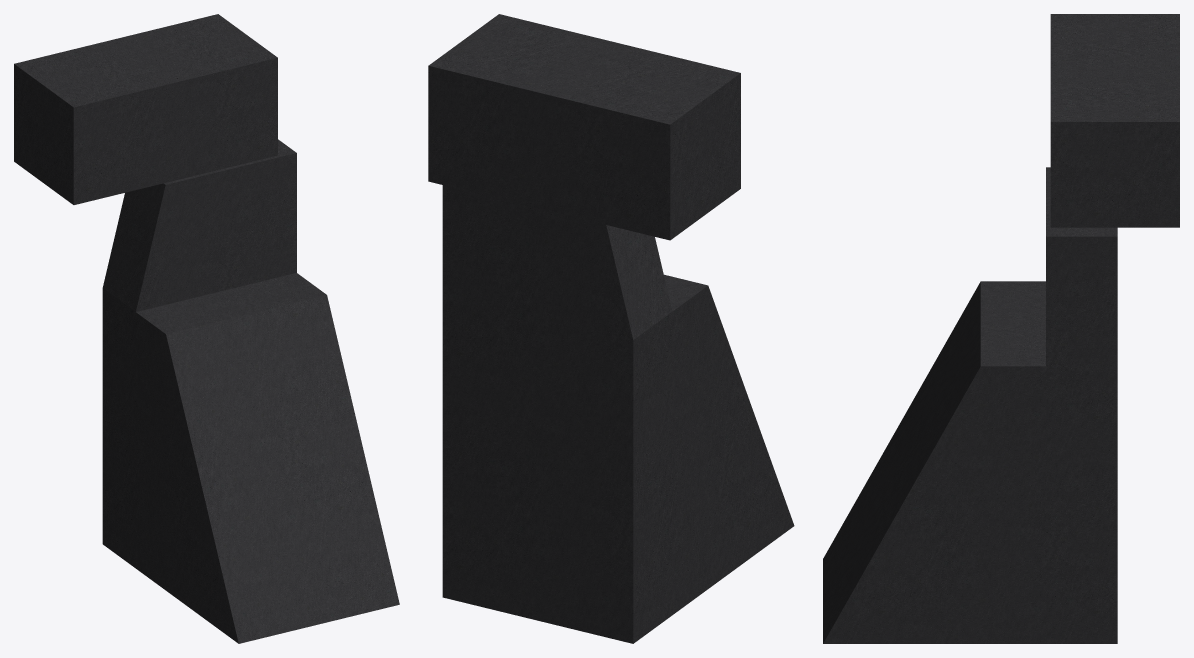
The model's file is rook-black.glb.
3 views of the same model, side by side, from view 1: azimuth 30°, elevation 25°; view 2: azimuth 150°, elevation 25°; view 3: azimuth 270°, elevation 25° (orthographic). The views are drawn at different scales.
Parts seen in each view (by area): view 1: vez_cerna; view 2: vez_cerna; view 3: vez_cerna.
Boxes of the visible parts, box(x1,y1,x2,y2) form: vez_cerna: box(14, 14, 399, 643); vez_cerna: box(428, 14, 794, 643); vez_cerna: box(823, 14, 1179, 643).
Bounding box in the file's own units: 0.6194 × 1.27 × 0.8004.
Materials: 1 (1 with a texture image).
